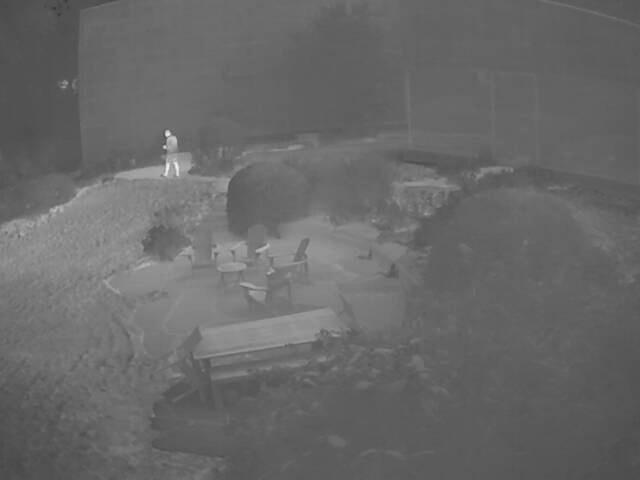person: (162, 128, 180, 179)
